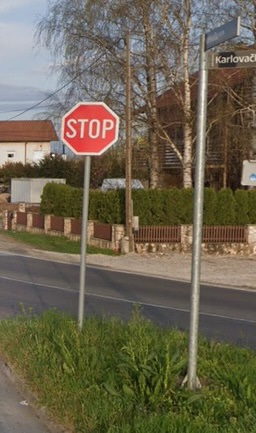Obavezno zaustavljanje: (61, 101, 119, 154)
